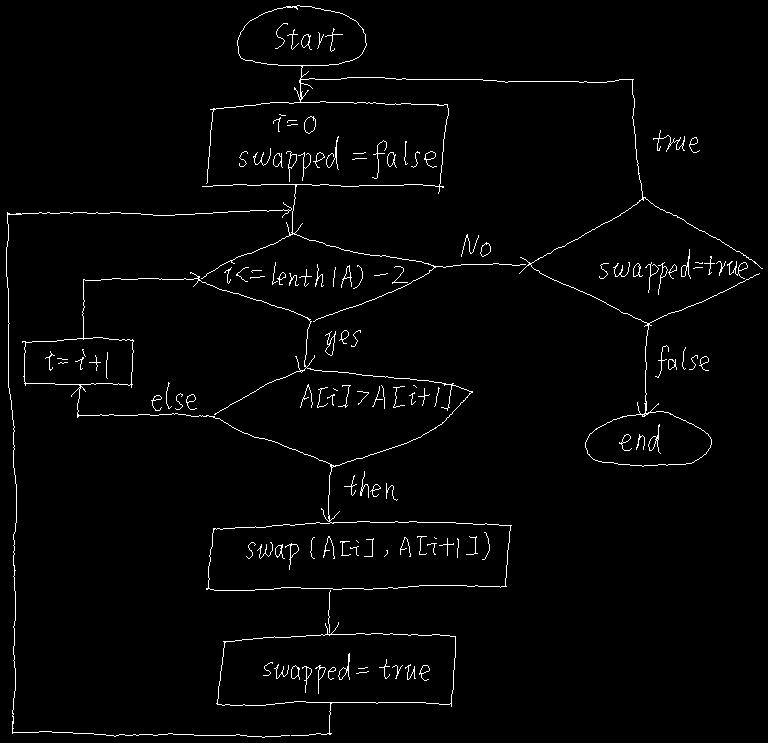arrow: (6, 202, 331, 737), (299, 71, 643, 200), (82, 272, 199, 339), (71, 384, 214, 417), (637, 324, 658, 416), (434, 257, 531, 273), (321, 465, 339, 521), (295, 321, 314, 372), (286, 185, 302, 234), (325, 590, 338, 635), (294, 65, 308, 102)
decision: (528, 197, 762, 326), (212, 367, 472, 467), (198, 232, 435, 321)
process: (202, 101, 448, 193), (206, 521, 511, 590), (216, 633, 455, 706), (22, 337, 133, 387)
terminator: (237, 5, 366, 65), (585, 411, 711, 466)
text: (239, 114, 436, 181), (246, 532, 489, 569), (599, 249, 747, 294), (263, 653, 429, 693), (224, 261, 407, 288), (300, 383, 453, 410), (275, 23, 342, 51), (45, 349, 107, 378), (655, 345, 708, 377), (344, 471, 397, 500), (151, 382, 196, 410), (619, 424, 660, 453), (653, 130, 699, 152), (325, 330, 360, 355), (461, 234, 490, 256)
